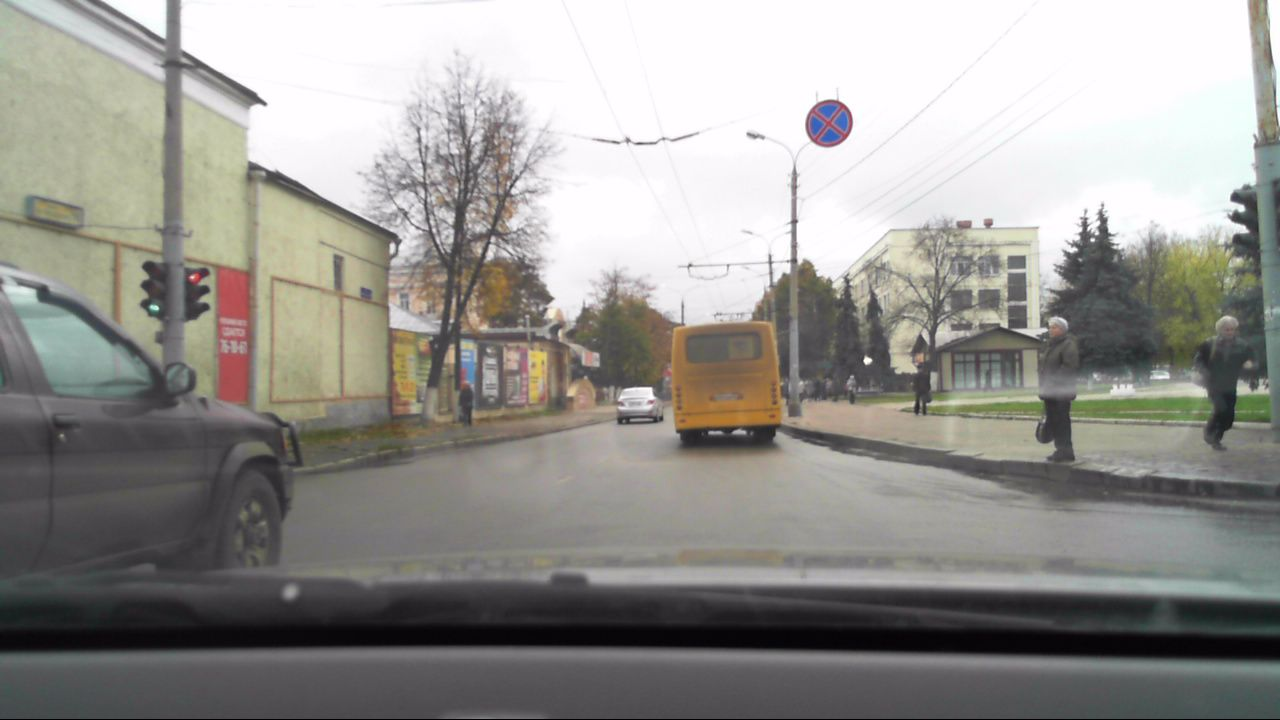No Parking: (806, 96, 853, 148)
